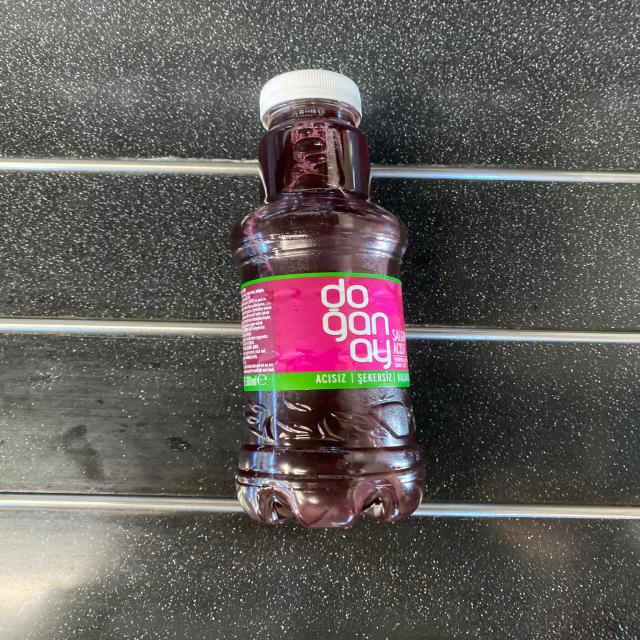yan_yemek: (230, 68, 428, 529)
